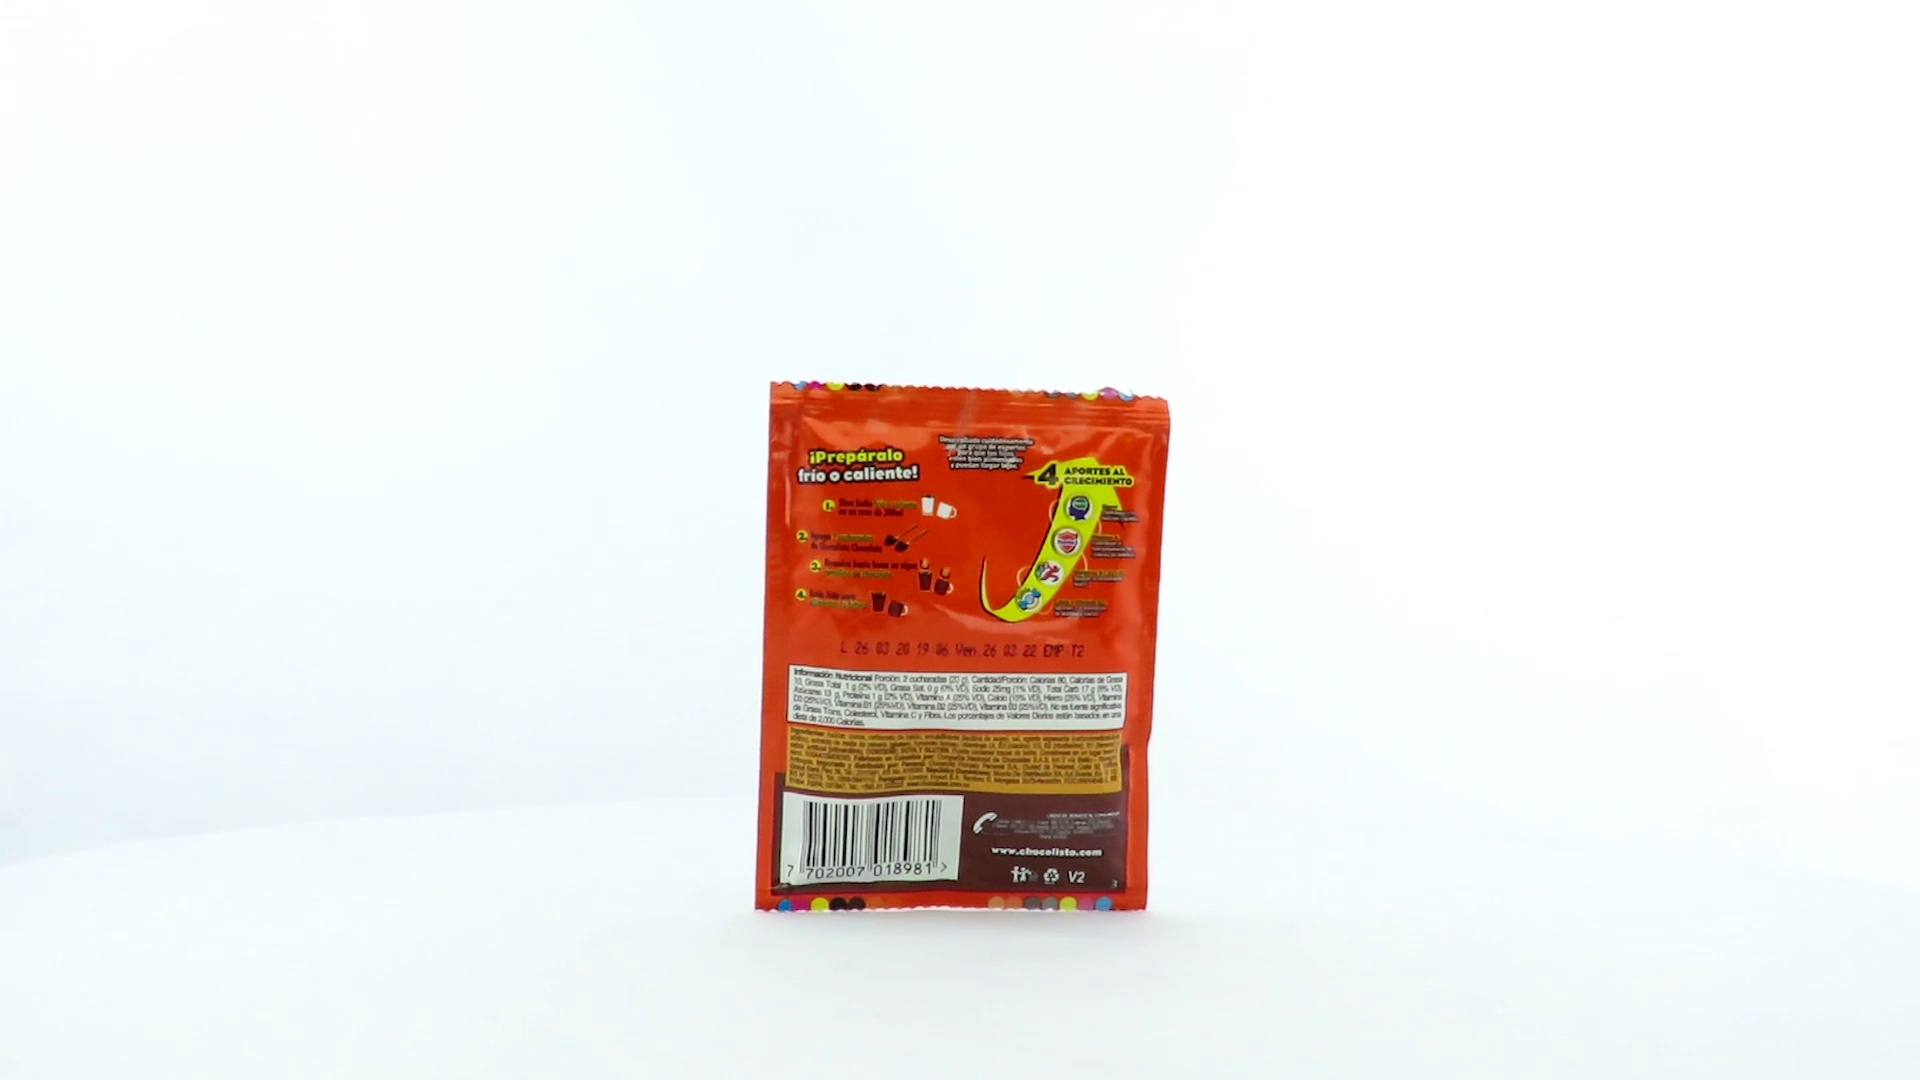COL0170103SOB02000: (749, 375, 1178, 918)
